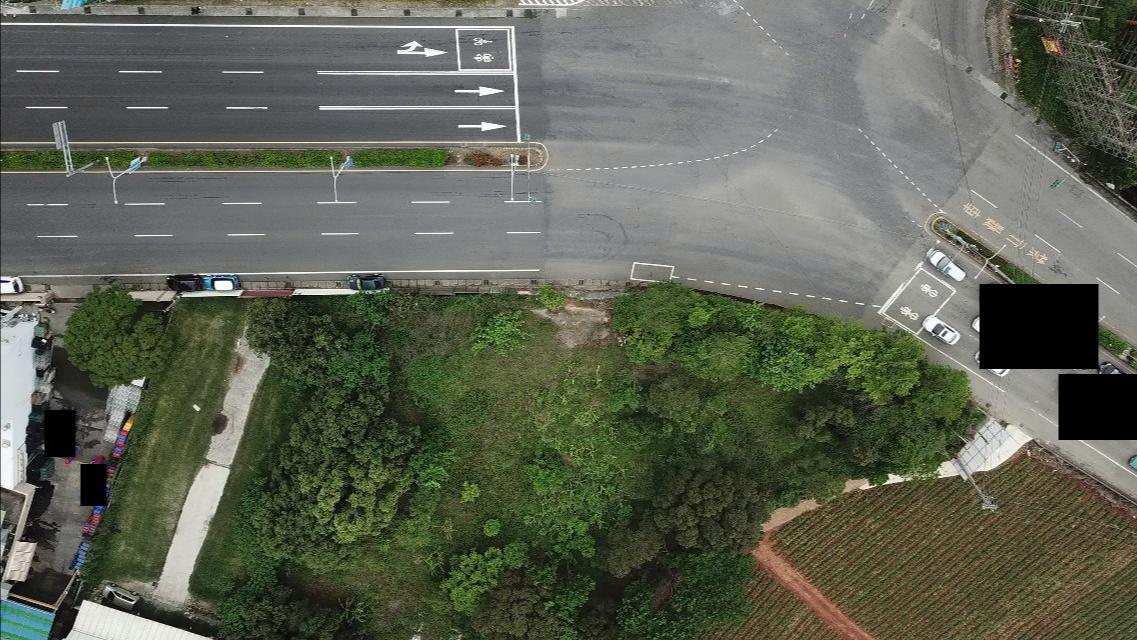vehicle: (926, 247, 967, 287), (922, 314, 960, 345), (970, 316, 1008, 347), (1097, 360, 1134, 391), (974, 352, 1009, 379), (343, 271, 387, 291), (166, 274, 200, 293), (202, 274, 240, 290), (1, 274, 25, 295)
